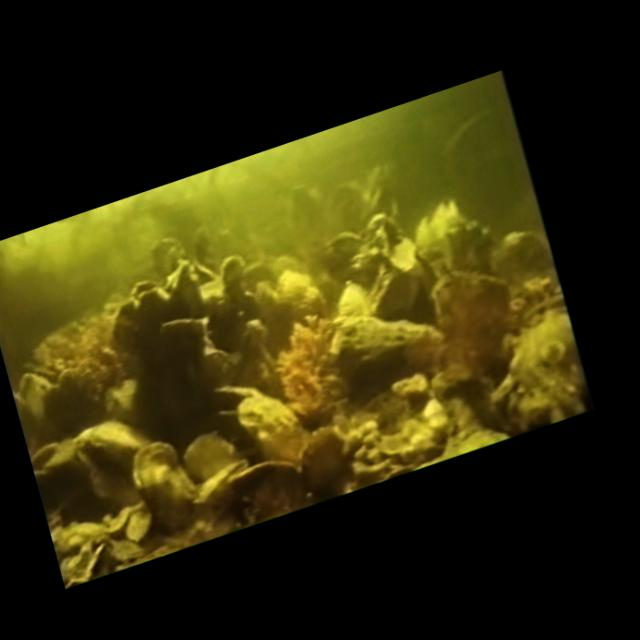Oyster-Closed: (58, 406, 176, 524), (115, 430, 214, 537), (349, 248, 429, 329), (186, 455, 259, 508)
Oyster-Indeterminate: (414, 252, 541, 385), (320, 286, 455, 387), (223, 378, 323, 479), (404, 195, 487, 289), (476, 219, 566, 303), (220, 450, 313, 526), (147, 307, 227, 389), (284, 421, 361, 498), (172, 422, 245, 488), (383, 233, 446, 300), (103, 295, 156, 352), (325, 273, 377, 329), (208, 248, 258, 303), (128, 280, 181, 329), (232, 316, 279, 371), (157, 259, 199, 303), (127, 274, 166, 306)
